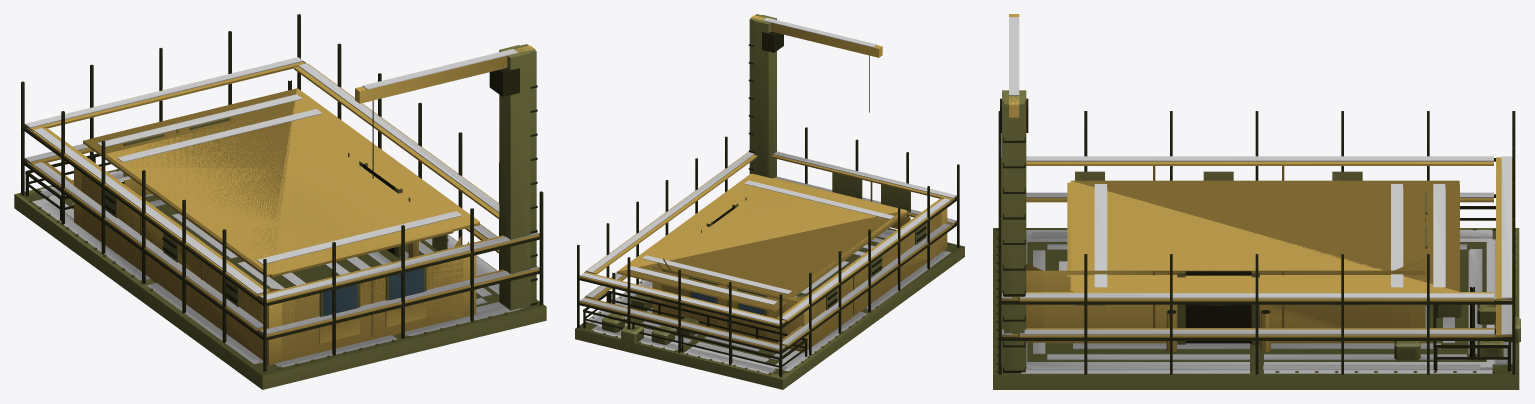
File: meridian_barracks_scaffolding.glb
3 views of the same model, side by side, from view 1: azimuth 30°, elevation 25°; view 2: azimuth 150°, elevation 25°; view 3: azimuth 270°, elevation 25° (orthographic). The views are drawn at different scales.
Visible parts, largest first — view 1: body (×3); view 2: body (×3); view 3: body (×3).
Part boxes in pixels (bbox=[...]): body (×3): bbox=[14, 14, 546, 389]; body (×3): bbox=[575, 14, 964, 389]; body (×3): bbox=[993, 14, 1520, 389].
Size of the model in its own units: 7.4 by 6.67 by 11.23.
